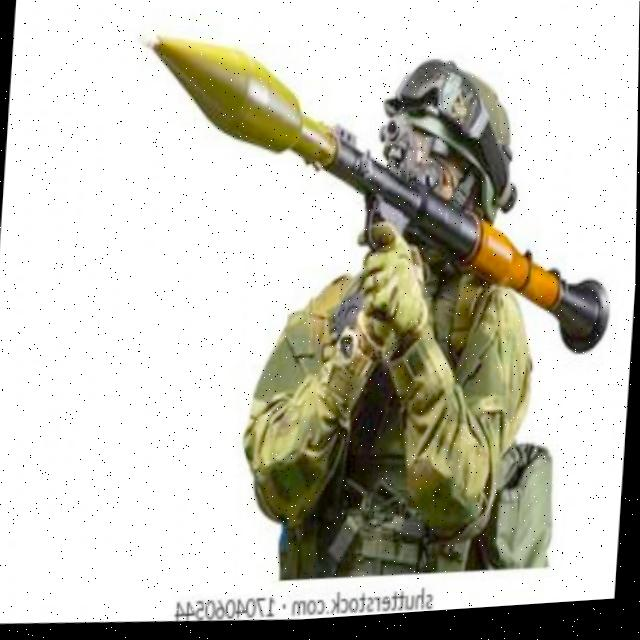rocket: (127, 0, 636, 406)
